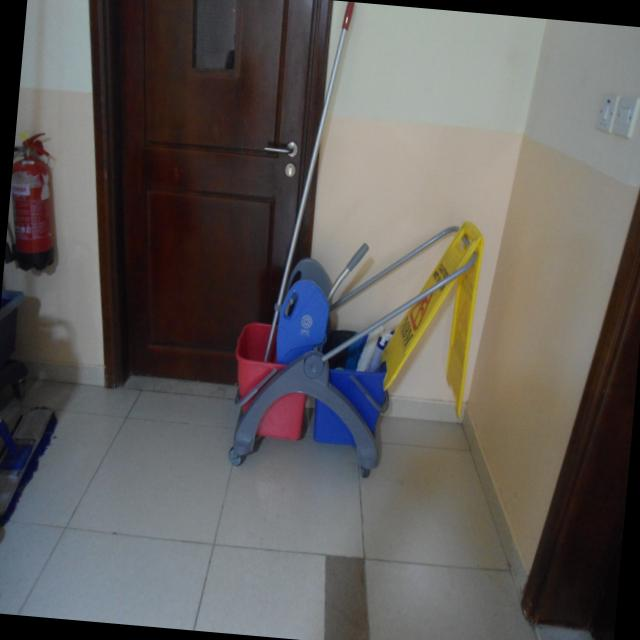cleaningCart: (231, 0, 502, 503), (0, 346, 68, 524)
door: (40, 0, 342, 421), (515, 70, 640, 640)
fireExt: (2, 116, 70, 285)
